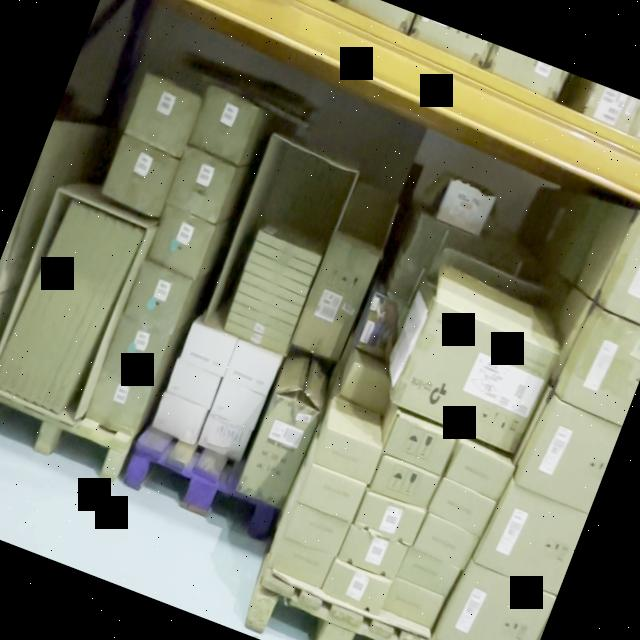box: (396, 302, 554, 452), (34, 223, 128, 405), (52, 231, 144, 415), (42, 227, 134, 408), (22, 220, 114, 401), (28, 221, 120, 401), (18, 216, 109, 397), (0, 208, 89, 392), (6, 212, 95, 394), (12, 214, 101, 395), (0, 202, 82, 384), (475, 487, 588, 595), (517, 400, 621, 514), (295, 236, 379, 358), (436, 563, 556, 640), (238, 394, 318, 508), (562, 312, 640, 427), (125, 76, 203, 154), (104, 142, 178, 212), (189, 88, 259, 160), (147, 206, 216, 278), (168, 151, 235, 219), (125, 264, 192, 332), (86, 369, 152, 436), (104, 318, 170, 384), (384, 417, 456, 475), (369, 457, 440, 513), (338, 526, 408, 582), (412, 515, 478, 572), (356, 490, 424, 544), (430, 478, 494, 534), (322, 563, 390, 615), (299, 466, 364, 520), (314, 431, 380, 483), (285, 504, 350, 556), (450, 444, 512, 498), (270, 538, 332, 588), (605, 237, 640, 324), (382, 579, 444, 628), (224, 342, 280, 396), (396, 549, 459, 596), (210, 380, 266, 430), (180, 325, 236, 374), (152, 396, 206, 445), (440, 182, 492, 230), (167, 363, 220, 408), (198, 415, 250, 460), (342, 362, 392, 408), (256, 231, 322, 264), (224, 323, 288, 355), (242, 274, 305, 304), (234, 294, 297, 324), (246, 264, 308, 294), (228, 313, 290, 343), (253, 247, 316, 276), (238, 285, 300, 314), (231, 305, 293, 334), (248, 254, 312, 282)
